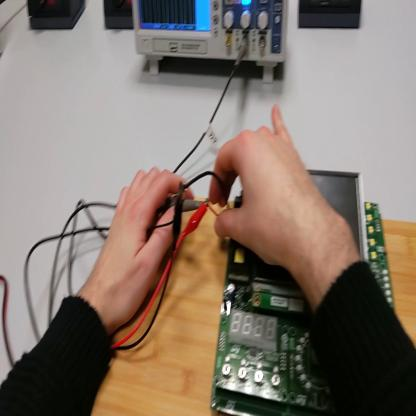hand: (209, 105, 324, 276), (93, 166, 198, 330)
low voltage board: (187, 168, 396, 415)
oscilloscope: (134, 2, 288, 82)
oscilloscope probe tip: (162, 197, 205, 215)
socket: (28, 1, 87, 31), (104, 1, 135, 33)
working area: (90, 201, 416, 415)
